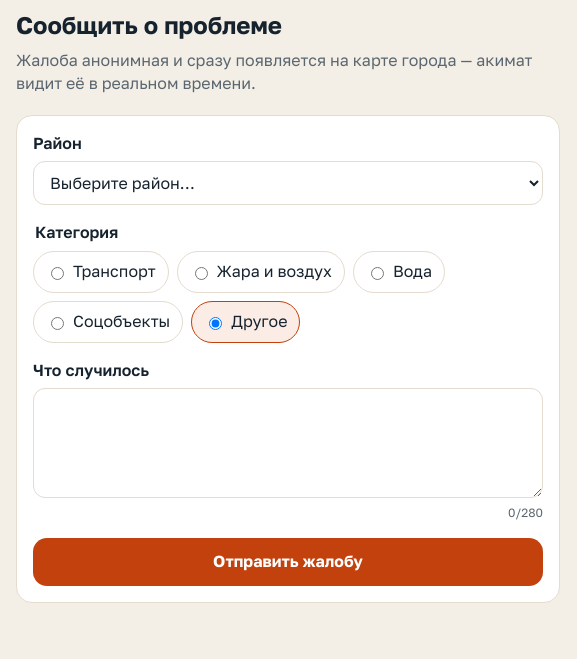
Test case: ReportPage › shows why the server refused
Select "12 мкр" in the dropdown labelled "Район" at (288, 183), box [33,161,543,205]
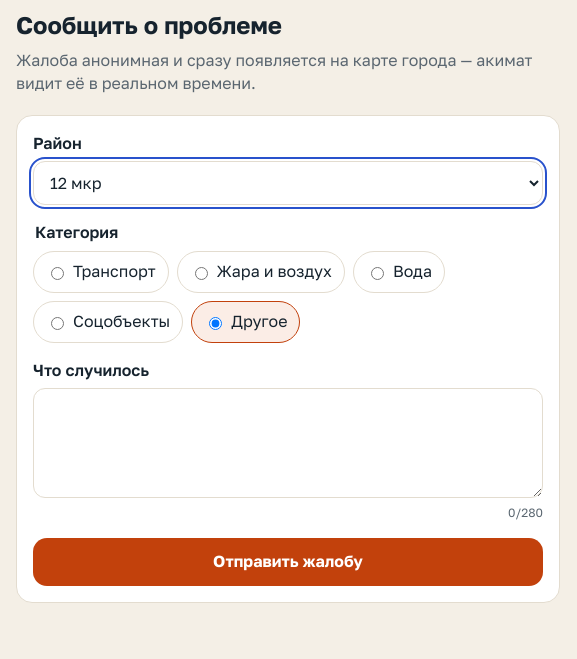
Type "Пробка у школы" into the text box labelled "Что случилось" at (288, 443), box [33,388,543,498]
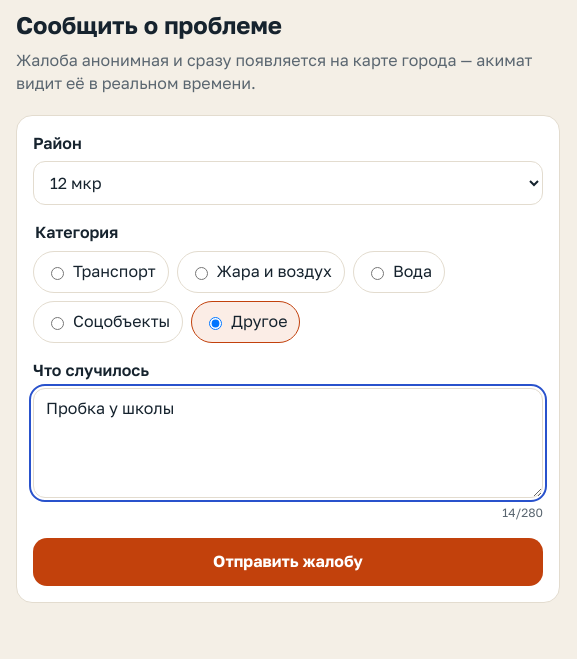
Click the button "Отправить жалобу" at (288, 562), box [33,538,543,586]
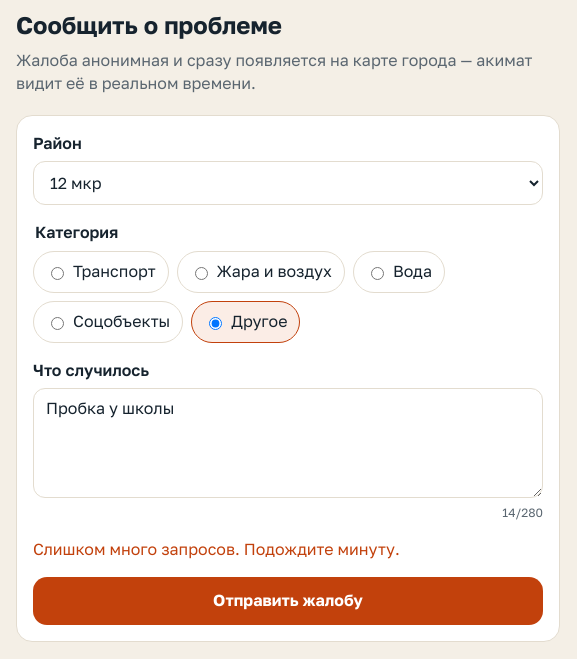
Now the message shows "Слишком много запросов", box [33,539,400,559]
